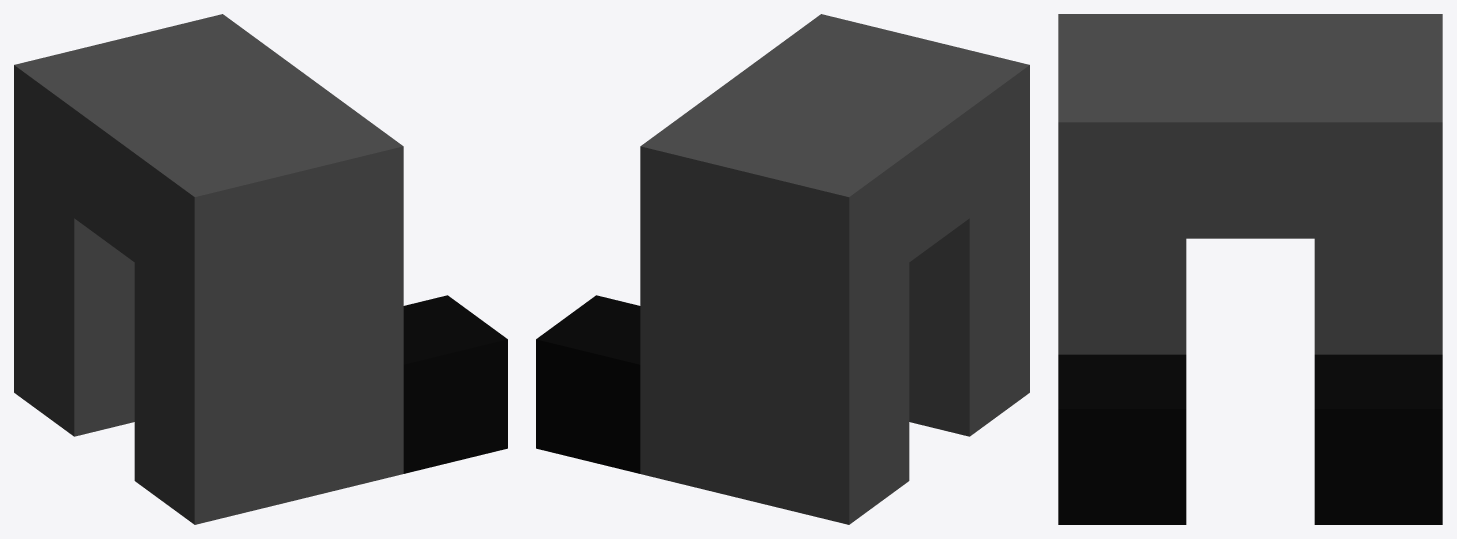
File: player_feet_s-06.obj
3 renders of one model, left to right at view 1: azimuth 30°, elevation 25°; view 2: azimuth 150°, elevation 25°; view 3: azimuth 270°, elevation 25°, orthographic. The views are drawn at different scales.
Size of the model in its own units: 3 by 3 by 3.
